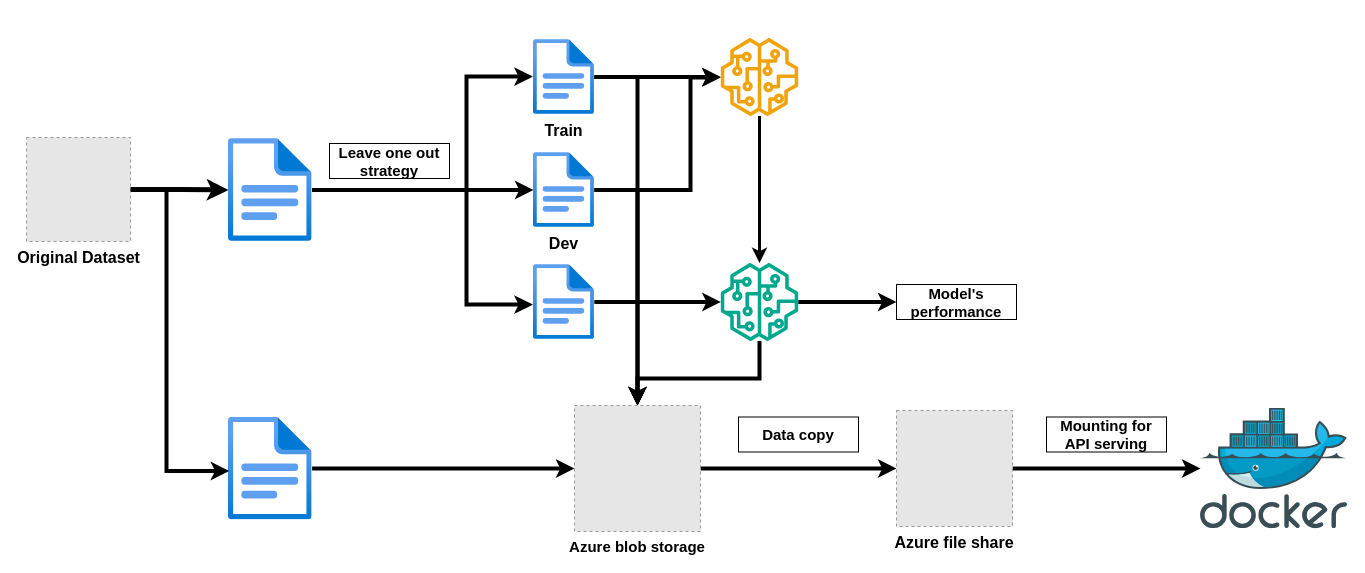
This 1365x573 diagram has some shape labels left out. Grey dashed boxes stand in for pictures. Here are the shapes that lost their labels. From the top down, the centre of each, then its label:
the point at 759,76: Model
the point at 270,189: Parquet format dataset
the point at 563,301: Test
the point at 759,301: Trained model
the point at 270,468: Mapping (csv)
